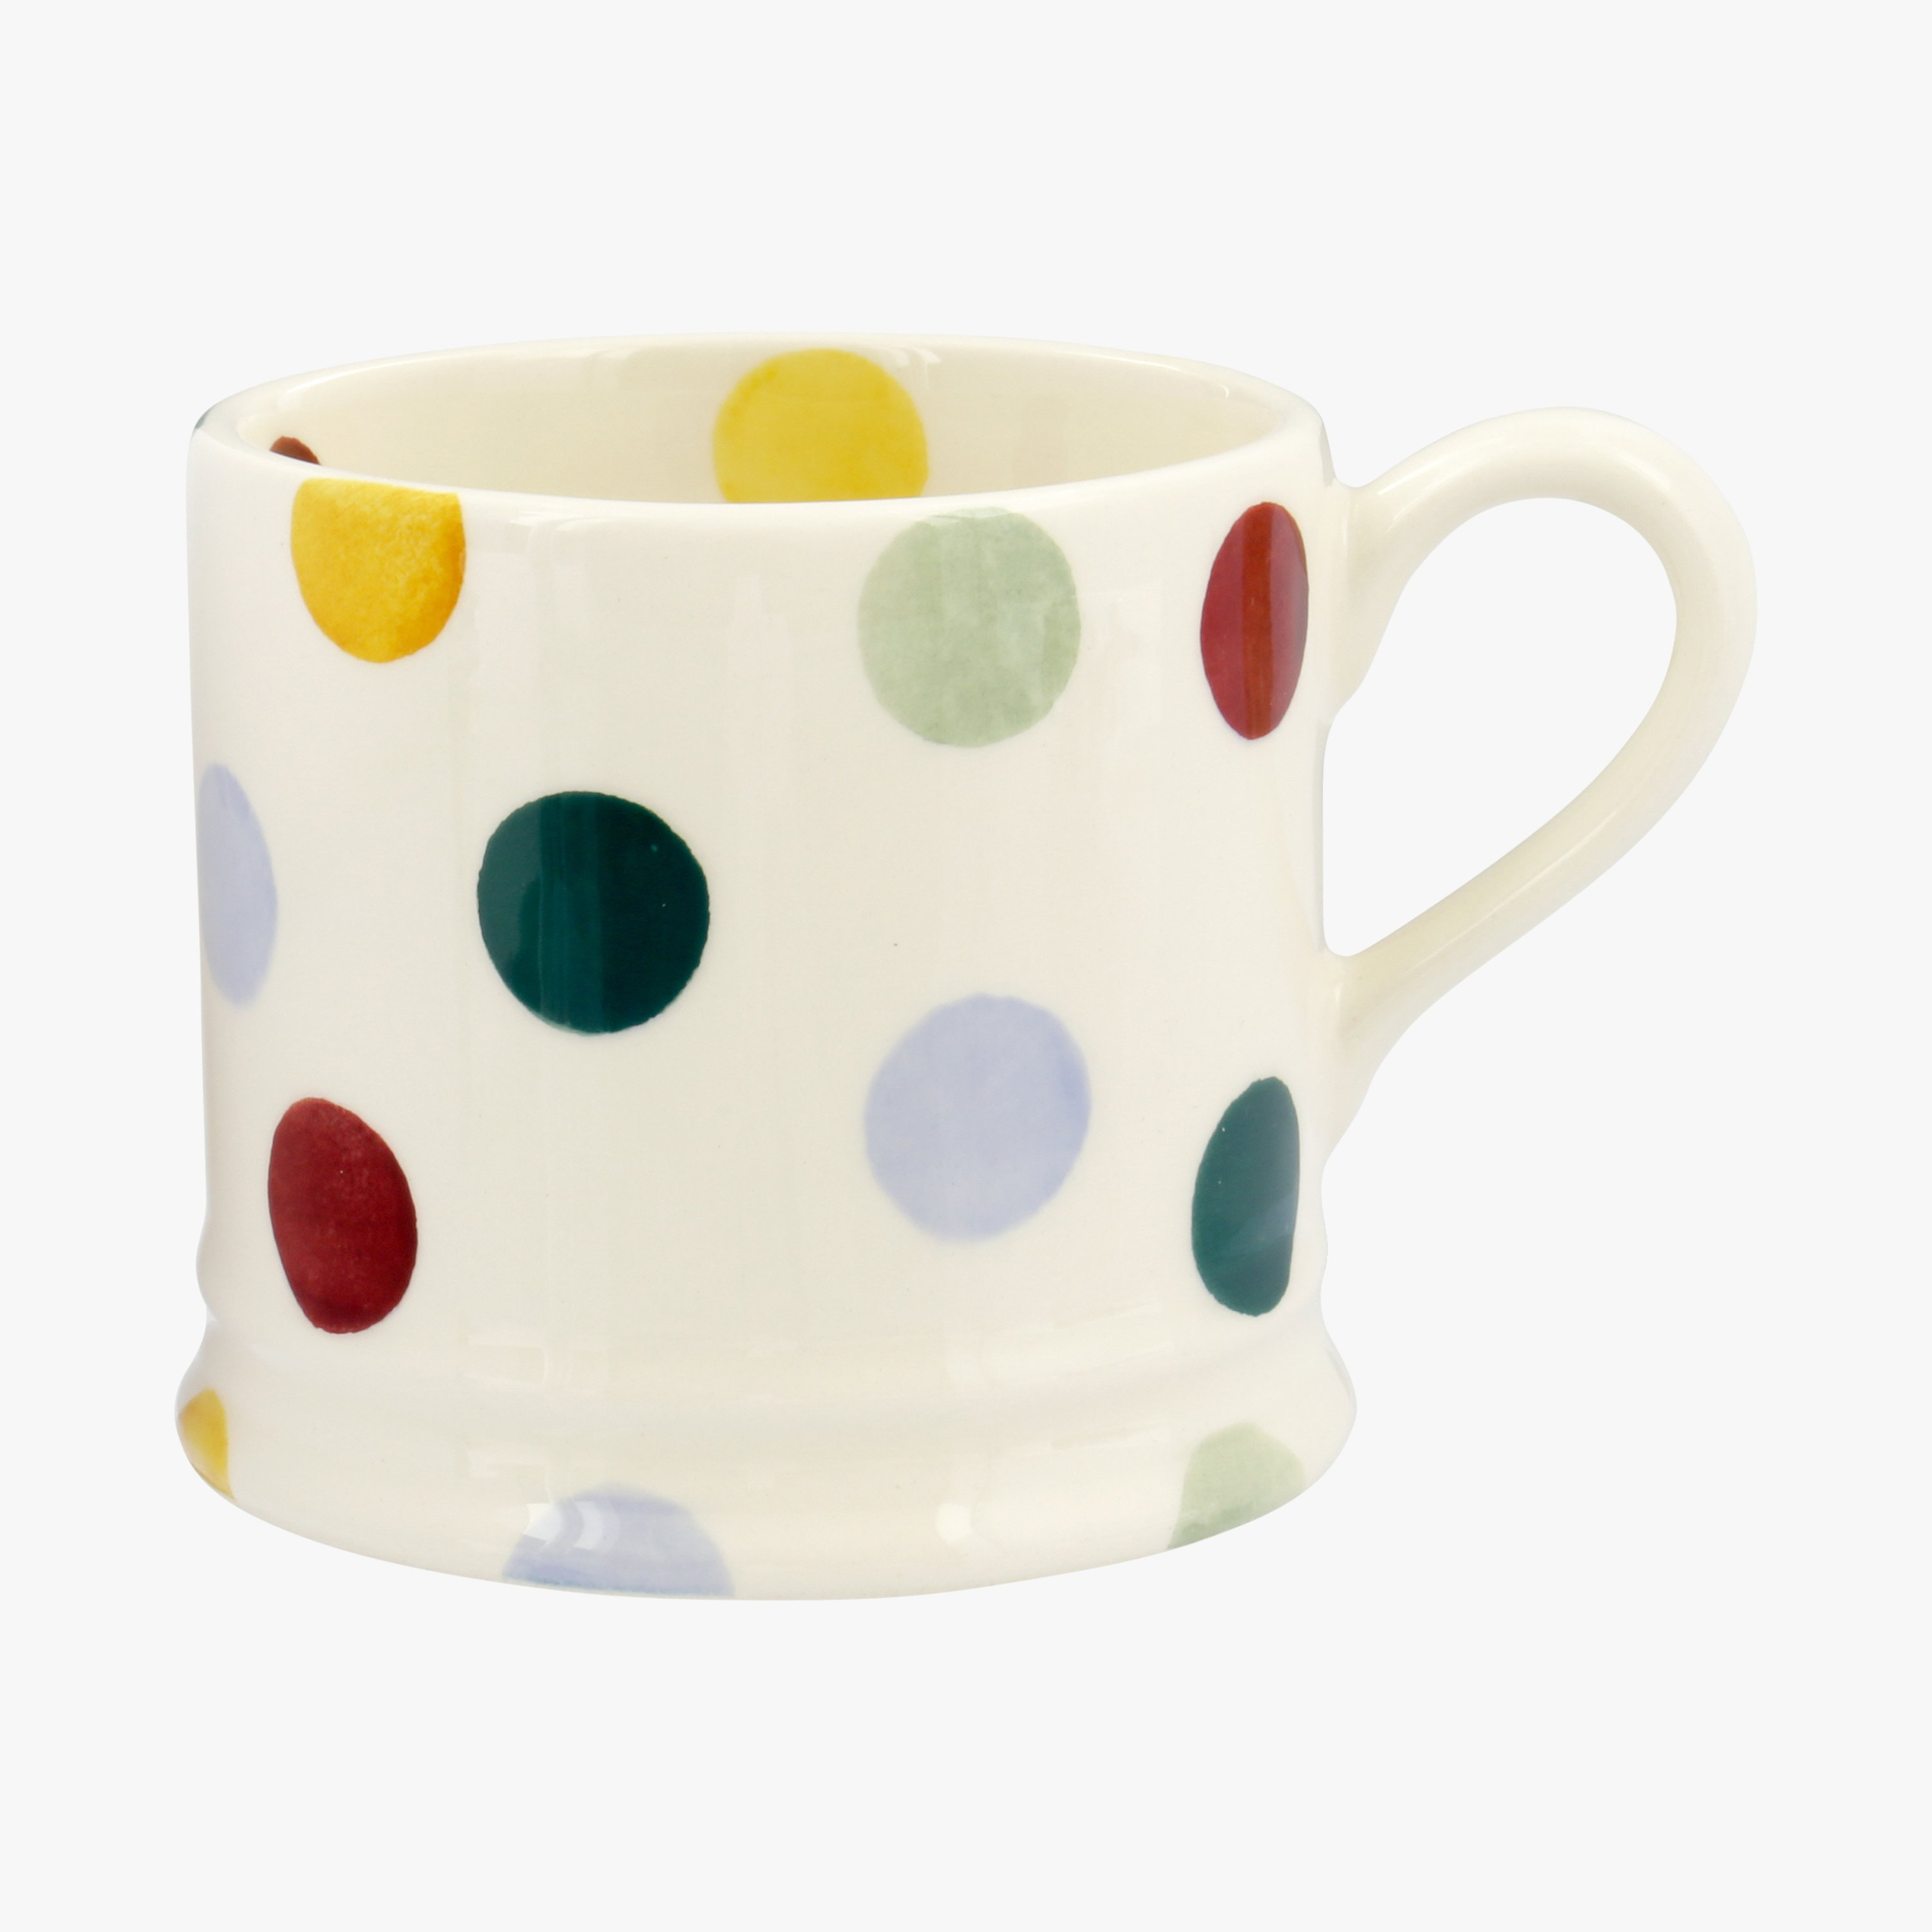gelas: (186, 338, 1736, 1605)
